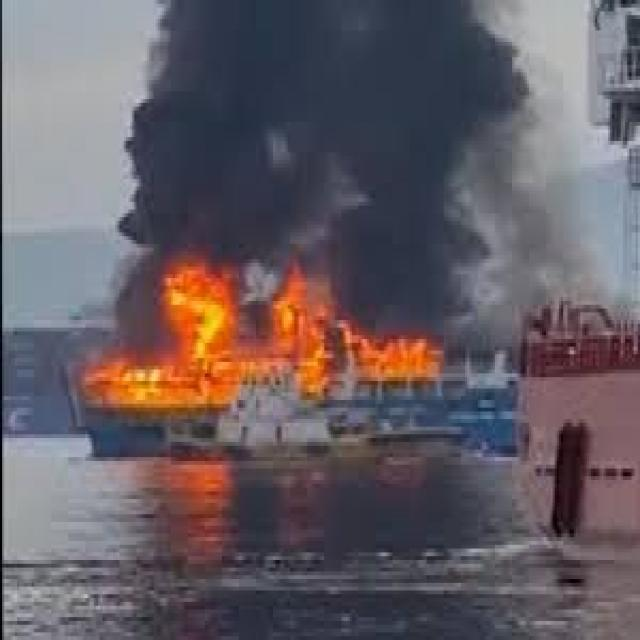Fire: (92, 232, 472, 486)
Smoke: (112, 0, 537, 367)
